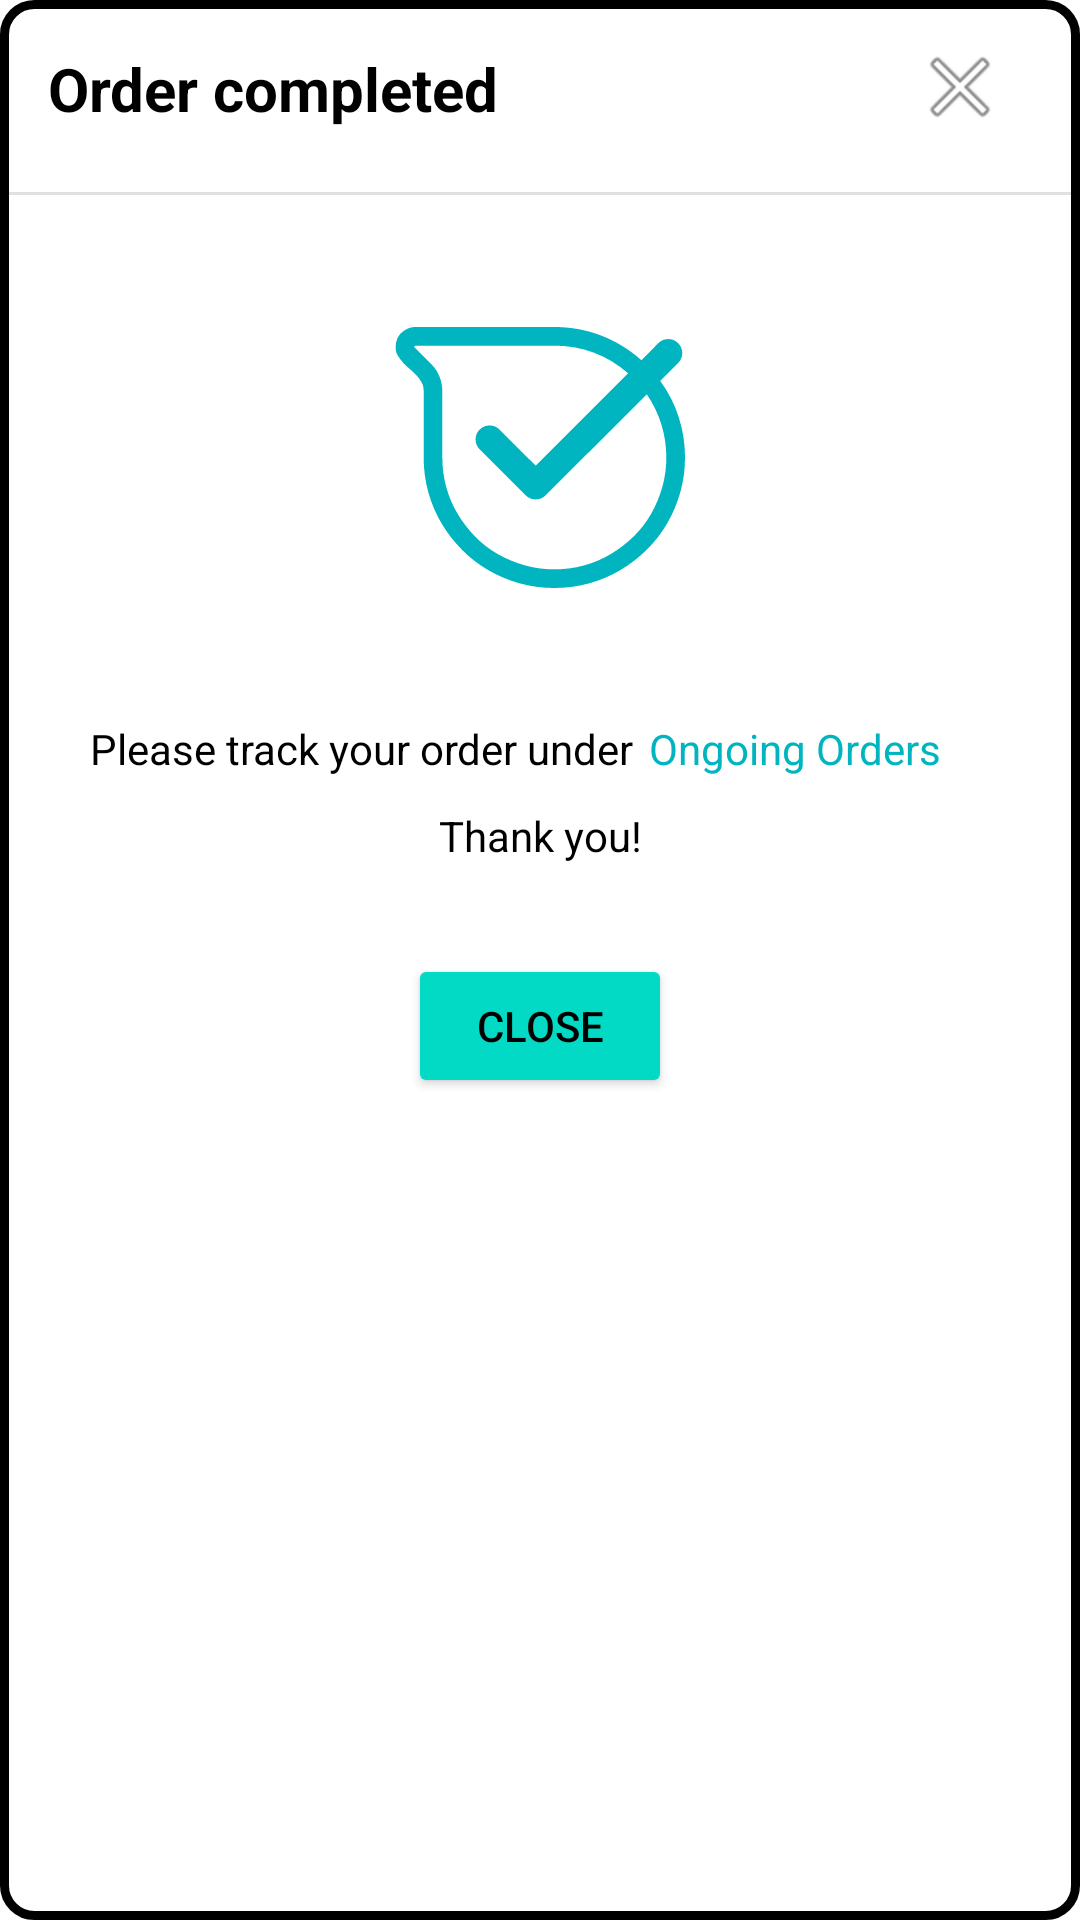

Named icons in this screenshot (1080x1920) and their centers, (x,y):
close clear cancel: (960,87)
order completed: (540,457)
